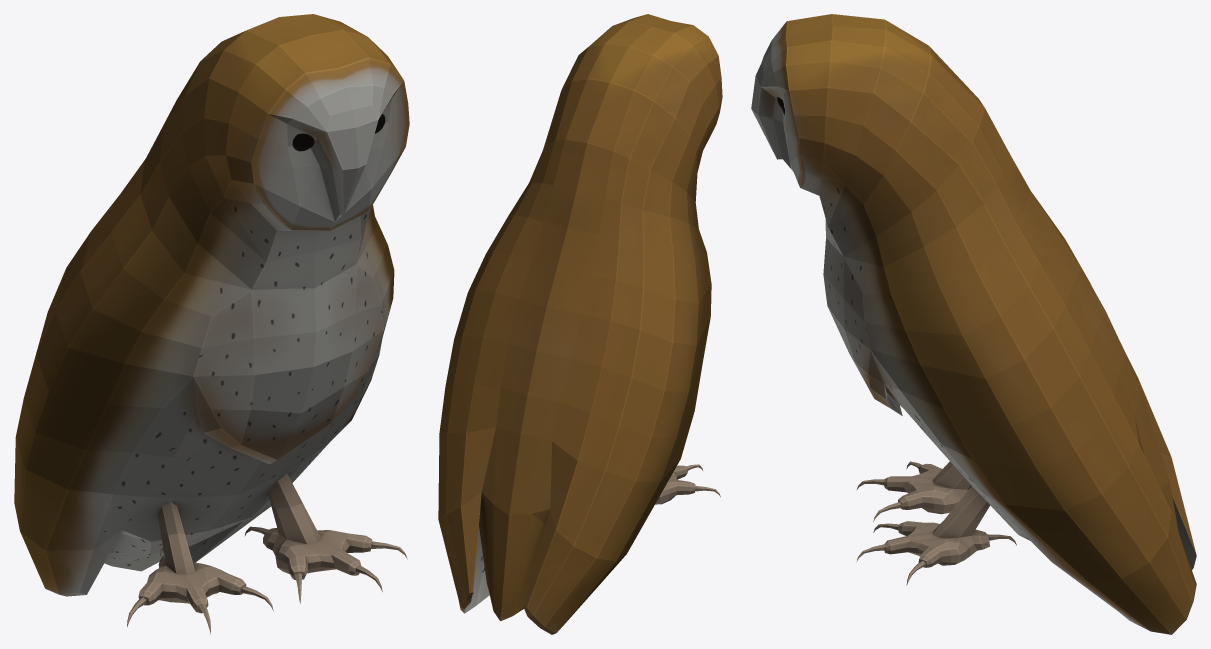
File: BarnOwl.gltf
3 views of the same model, side by side, from view 1: azimuth 30°, elevation 25°; view 2: azimuth 150°, elevation 25°; view 3: azimuth 270°, elevation 25° (orthographic). The views are drawn at different scales.
Visible parts, largest first — view 1: node-0; view 2: node-0; view 3: node-0.
Boxes of the visible parts, <box> form: node-0: <box>14,14,409,634</box>; node-0: <box>438,14,722,634</box>; node-0: <box>751,14,1196,634</box>.
Size of the model in its own units: 4.98 by 10.4 by 7.2.
1 material, 1 textured.
